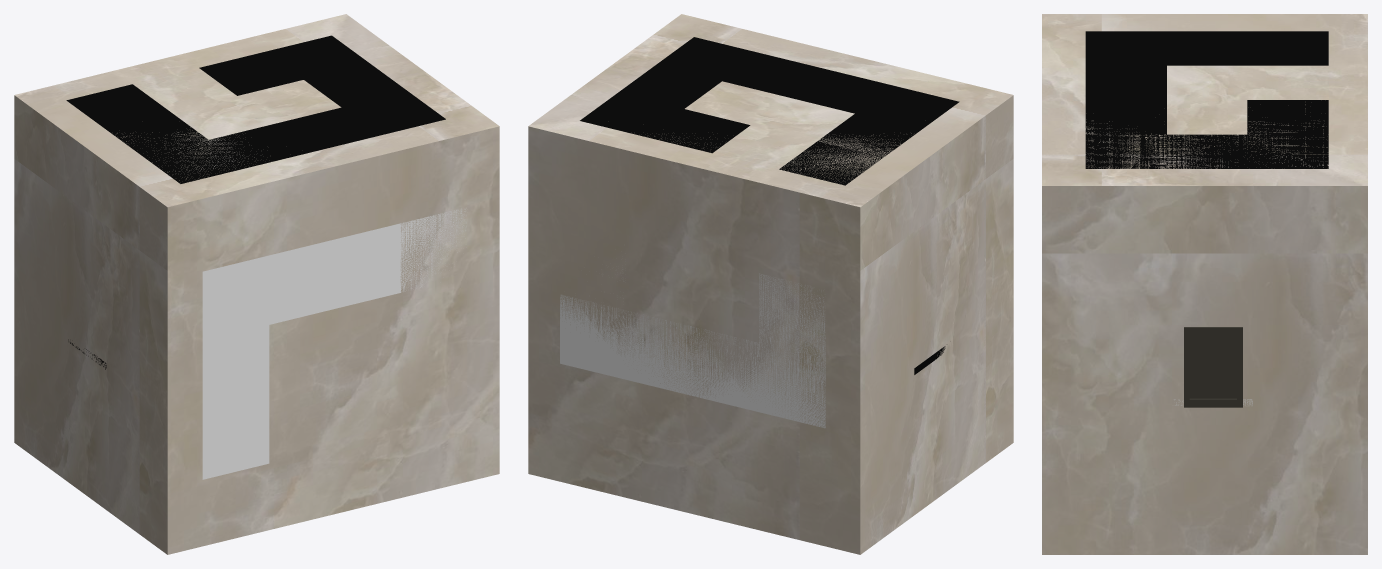
The model's file is Small Room 4.fbx.
3 views of the same model, side by side, from view 1: azimuth 30°, elevation 25°; view 2: azimuth 150°, elevation 25°; view 3: azimuth 270°, elevation 25° (orthographic). The views are drawn at different scales.
Visible parts, largest first — view 1: Cube.031, Cube.062, Cube.056; view 2: Cube.031, Cube.056, Cube.047; view 3: Cube.031, Cube.056, Cube.021.
Boxes of the visible parts, x1,y1,x2,y2 form: Cube.031: (14, 14, 499, 554); Cube.062: (202, 208, 466, 479); Cube.056: (66, 35, 445, 183); Cube.031: (528, 14, 1013, 554); Cube.056: (580, 37, 959, 185); Cube.047: (560, 269, 825, 428); Cube.031: (1042, 14, 1367, 554); Cube.056: (1085, 31, 1328, 168); Cube.021: (1184, 327, 1242, 407).
Bounding box in the file's own units: 1006 × 1000 × 800.
4 materials, 1 textured.
